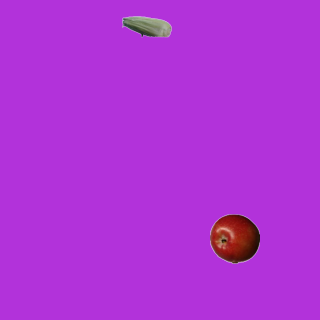Apple Braeburn: (209, 213, 259, 263)
Corn Husk: (121, 1, 171, 51)
